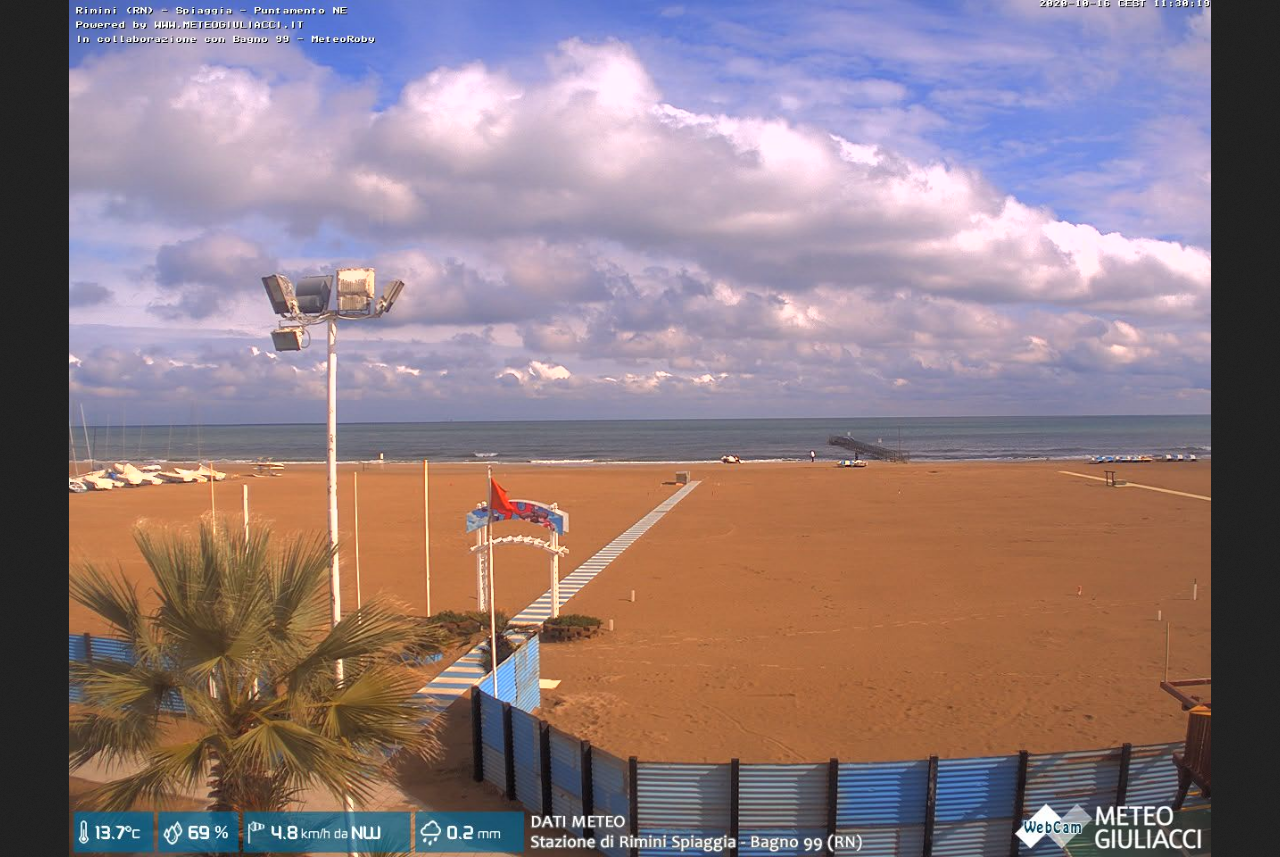maybe: (484, 480, 522, 527)
